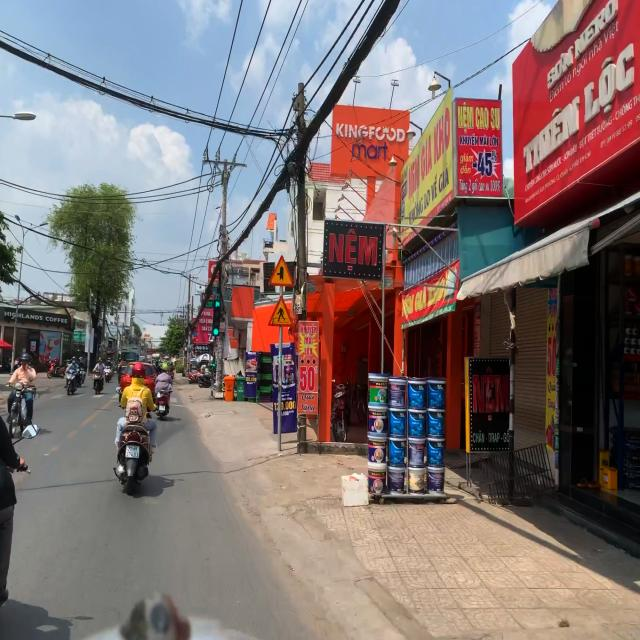Giao voi duong khong uu tien: (268, 255, 295, 286)
Nguoi di bo cat ngang: (268, 295, 294, 327)
